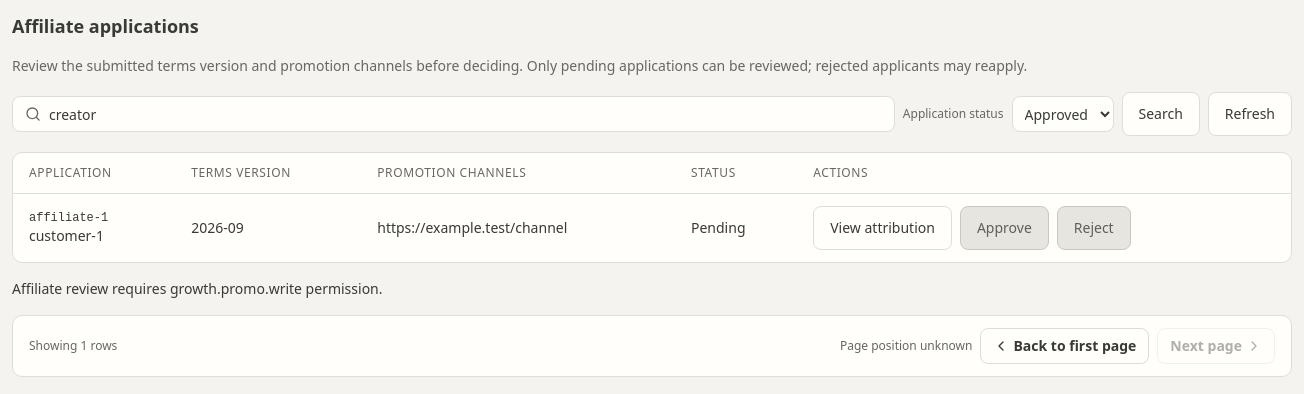
affiliate review workflow › restores list filters and cursor from a shared URL and supports history restoration
Expected: the text "Page 1" is not shown
Click the button "Back to first page" at (1065, 346), box 980,328 -> 1149,364
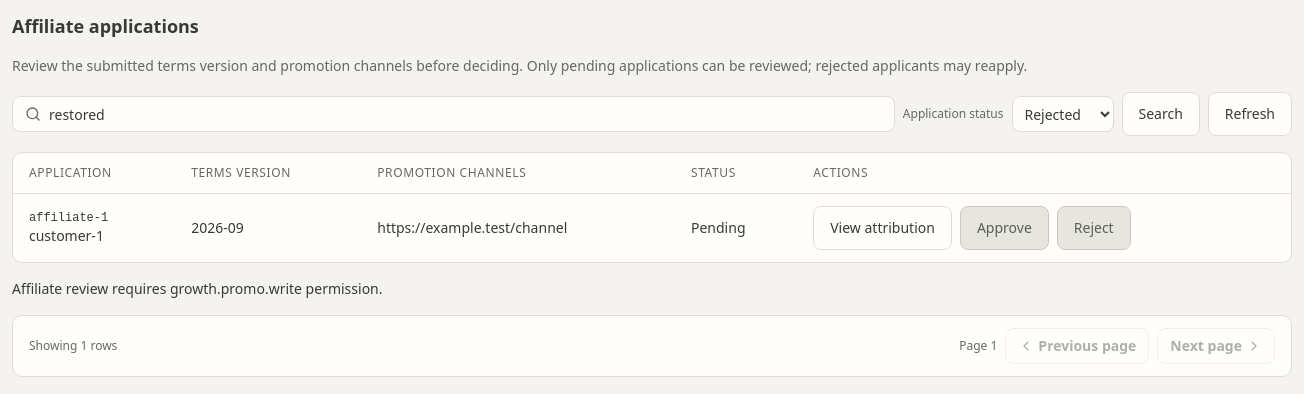
Expected: the field with placeholder "Search application or user ID" holds "restored", 49,97 -> 882,131
